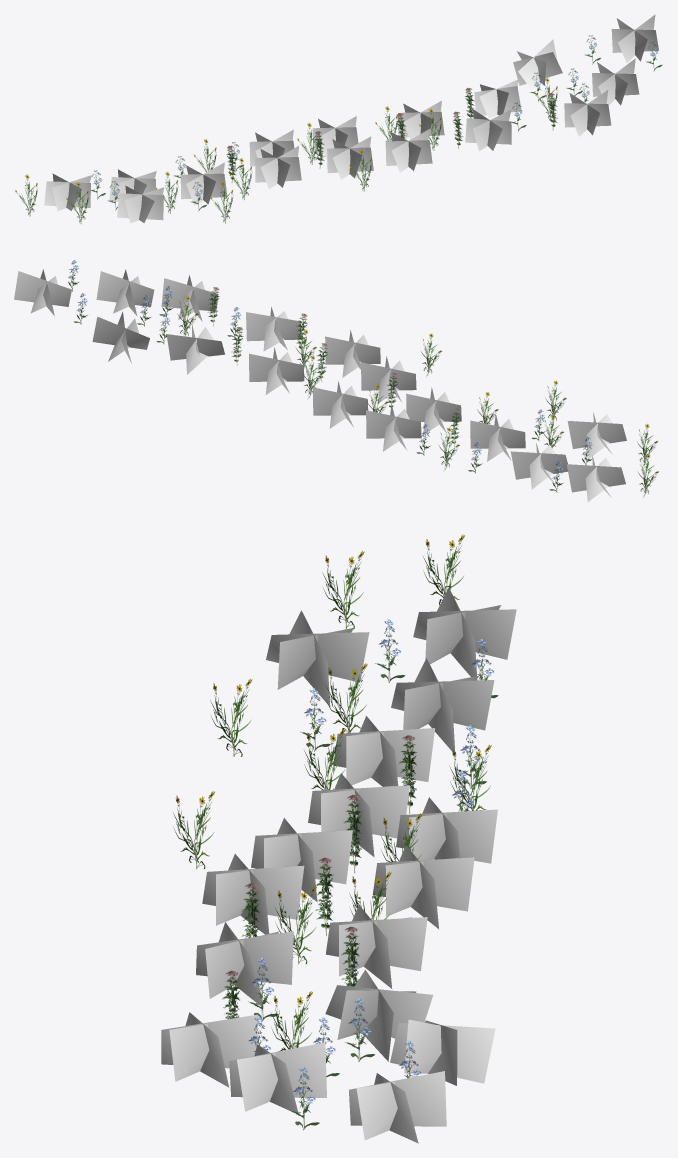
The model's file is grass_flowers_stk.glb.
3 renders of one model, top to bottom at view 1: azimuth 30°, elevation 25°; view 2: azimuth 150°, elevation 25°; view 3: azimuth 270°, elevation 25°, orthographic. The views are drawn at different scales.
Visible parts, largest first — view 1: stk_grassAlpha.png__, BlackEyedSusan.png__, Flower5.png__, Flower3.png__; view 2: stk_grassAlpha.png__, BlackEyedSusan.png__, Flower3.png__, Flower5.png__, Flower3F.png__; view 3: stk_grassAlpha.png__, BlackEyedSusan.png__, Flower5.png__, Flower3.png__, Flower3F.png__.
Part boxes in pixels (x1,y1,x2,y2): stk_grassAlpha.png__: (44,14,658,223); BlackEyedSusan.png__: (15,78,557,223); Flower5.png__: (226,88,557,182); Flower3.png__: (91,35,662,211); stk_grassAlpha.png__: (14,269,626,501); BlackEyedSusan.png__: (177,296,658,497); Flower3.png__: (68,261,591,492); Flower5.png__: (207,288,460,447); Flower3F.png__: (68,260,592,479); stk_grassAlpha.png__: (161,587,516,1143); BlackEyedSusan.png__: (173,534,491,1051); Flower5.png__: (222,735,417,1019); Flower3.png__: (248,620,498,1130); Flower3F.png__: (248,619,494,1103).
Bounding box in the file's own units: 70.81 × 8.05 × 17.22.
Materials: 6 (5 with a texture image).
